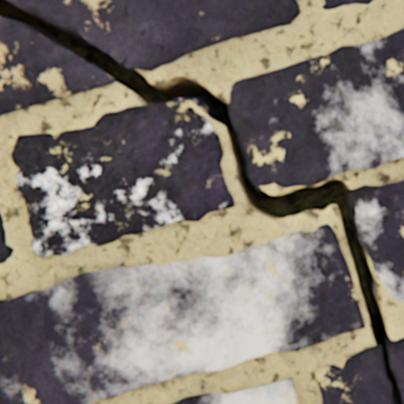brick: (0, 224, 364, 403), (13, 101, 234, 256), (230, 29, 403, 187), (347, 180, 403, 300), (174, 377, 299, 403), (0, 210, 14, 263), (322, 0, 374, 10)
broken_brick: (7, 0, 300, 71), (0, 18, 116, 116), (315, 345, 393, 403), (386, 337, 403, 403)
crack: (0, 0, 402, 403)
